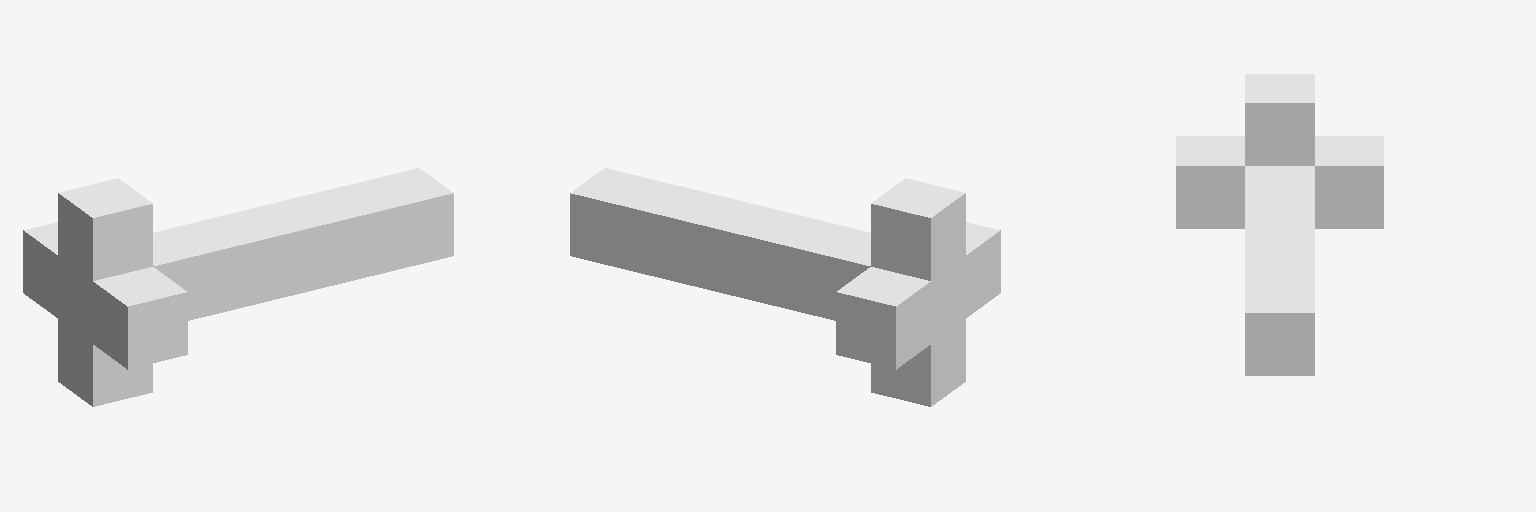
Rendered from Nail.obj.
3 renders of one model, left to right at view 1: azimuth 30°, elevation 25°; view 2: azimuth 150°, elevation 25°; view 3: azimuth 270°, elevation 25°, orthographic.
Parts seen in each view (by area): view 1: object 1; view 2: object 1; view 3: object 1.
Part boxes in pixels (x1,y1,x2,y2): object 1: (23,168,453,406); object 1: (570,168,1000,406); object 1: (1176,74,1383,375).
Size of the model in its own units: 0.6 by 0.3 by 0.3.